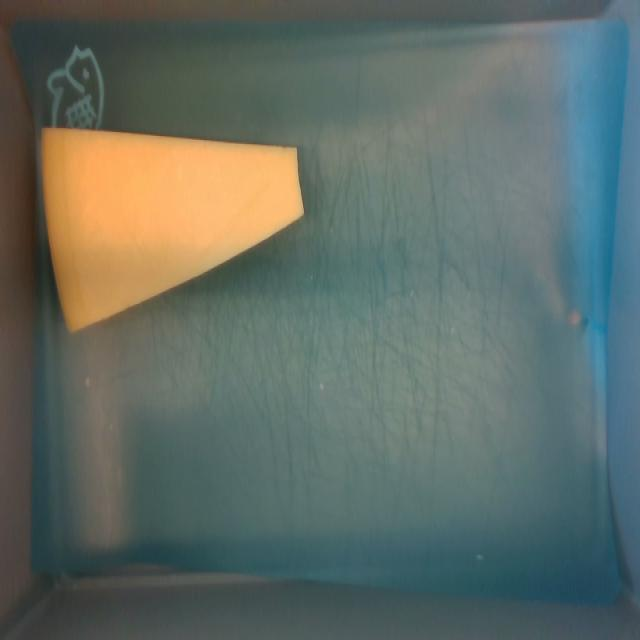cheese: (42, 128, 303, 331)
